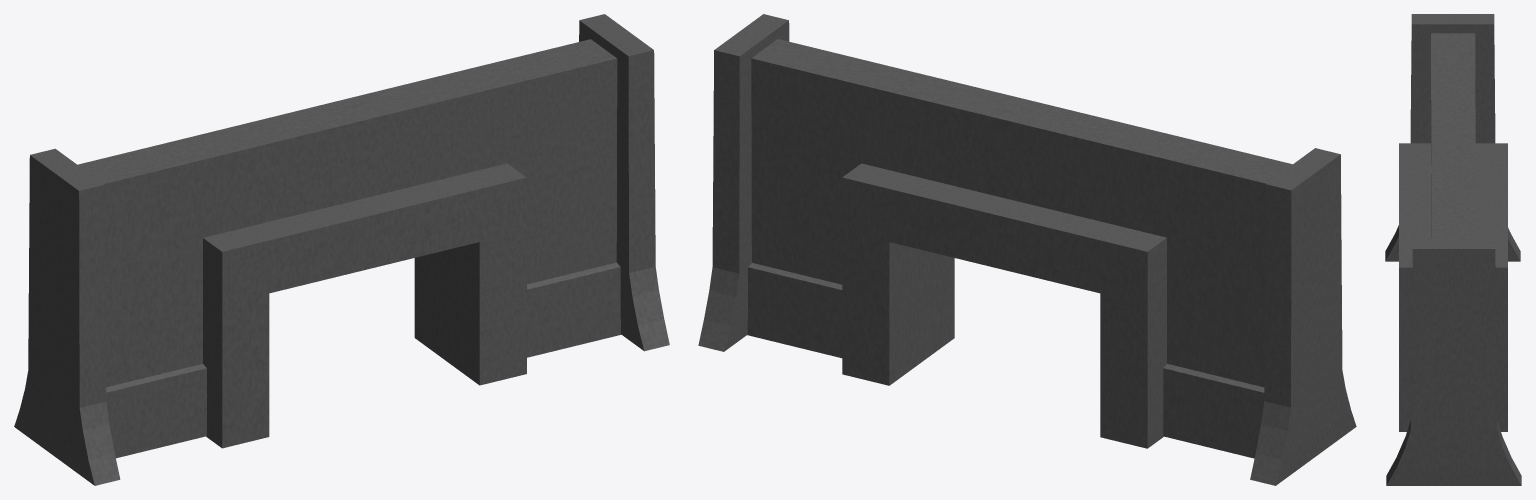
Rendered from Portao.fbx.
The picture shows the model from 3 angles, left to right: view 1: azimuth 30°, elevation 25°; view 2: azimuth 150°, elevation 25°; view 3: azimuth 270°, elevation 25°; orthographic projection. The views are drawn at different scales.
Parts seen in each view (by area): view 1: Portao; view 2: Portao; view 3: Portao.
Part boxes in pixels (x1=…): Portao: x1=14, y1=14, x2=669, y2=485; Portao: x1=698, y1=14, x2=1356, y2=485; Portao: x1=1385, y1=14, x2=1521, y2=485.
Bounding box in the file's own units: 8790 × 4150 × 2148.
